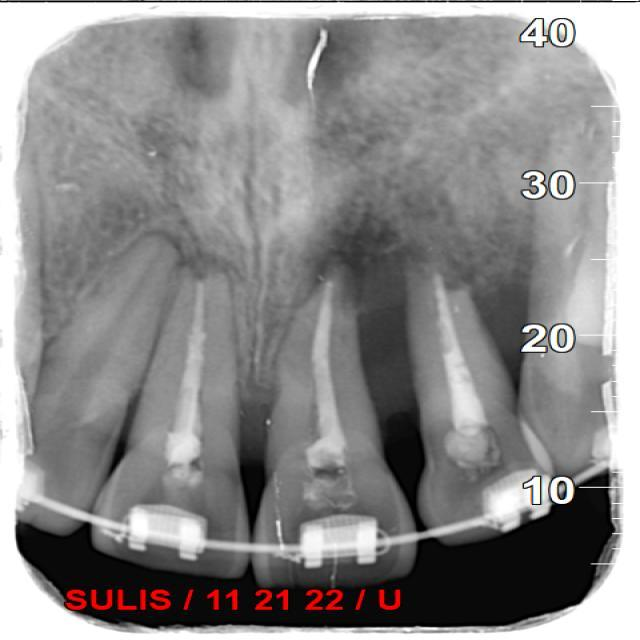individual-tooth-8tto: (257, 243, 410, 599), (399, 232, 567, 549), (92, 256, 251, 585)
